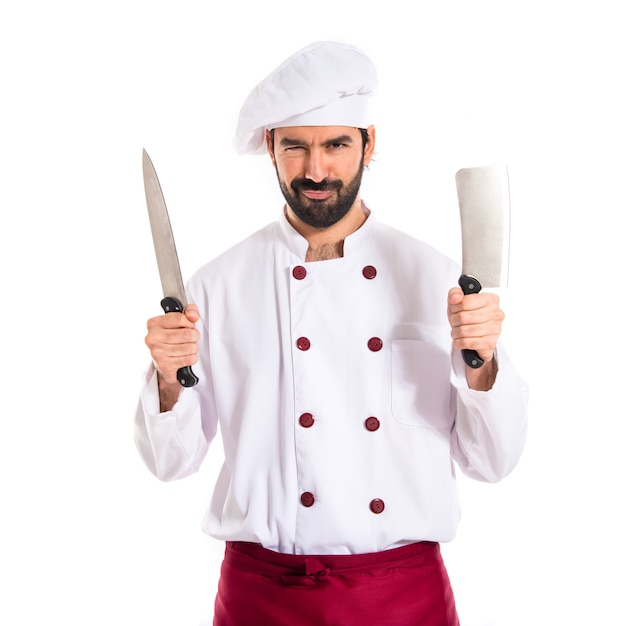knife: (140, 144, 193, 315), (452, 164, 511, 292)
